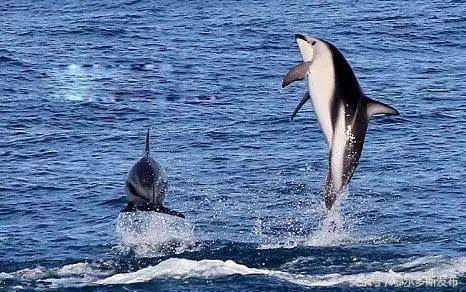fish: (281, 32, 401, 221), (119, 127, 188, 220)
